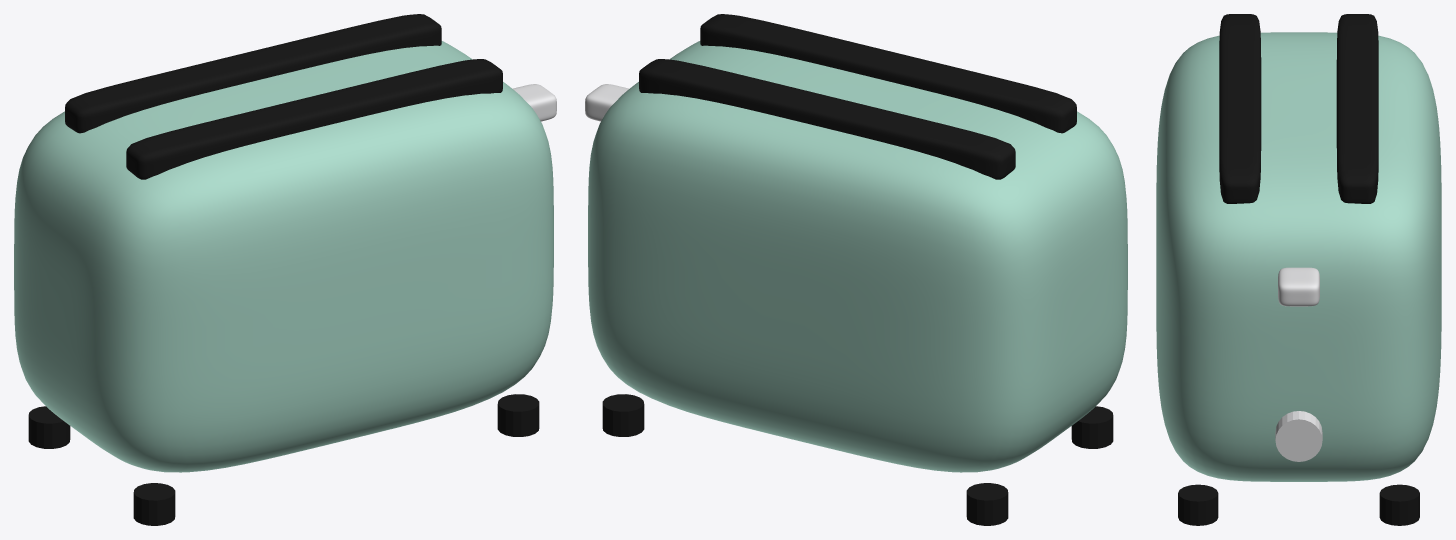
Rendered from mint.glb.
The picture shows the model from 3 angles, left to right: view 1: azimuth 30°, elevation 25°; view 2: azimuth 150°, elevation 25°; view 3: azimuth 270°, elevation 25°; orthographic projection. The views are drawn at different scales.
Visible parts, largest first — view 1: paint_primary, slot_dark, rubber_foot, chrome; view 2: paint_primary, slot_dark, rubber_foot, chrome; view 3: paint_primary, slot_dark, chrome, rubber_foot.
Boxes of the visible parts, x1,y1,x2,y2 form: paint_primary: [14, 41, 553, 472]; slot_dark: [65, 14, 502, 179]; rubber_foot: [28, 394, 539, 525]; chrome: [512, 84, 556, 121]; paint_primary: [588, 41, 1127, 472]; slot_dark: [639, 14, 1076, 179]; rubber_foot: [602, 394, 1113, 525]; chrome: [585, 84, 629, 121]; paint_primary: [1156, 32, 1441, 481]; slot_dark: [1219, 14, 1378, 203]; chrome: [1275, 267, 1322, 461]; rubber_foot: [1178, 484, 1419, 525].
Size of the model in its own units: 0.325 by 0.222 by 0.17.
